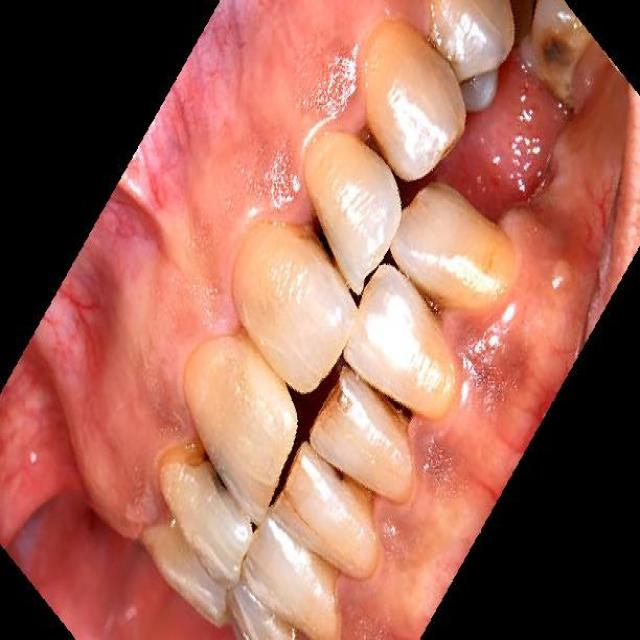redness: (431, 300, 495, 384), (316, 59, 363, 125), (252, 157, 301, 218), (413, 410, 449, 489)
